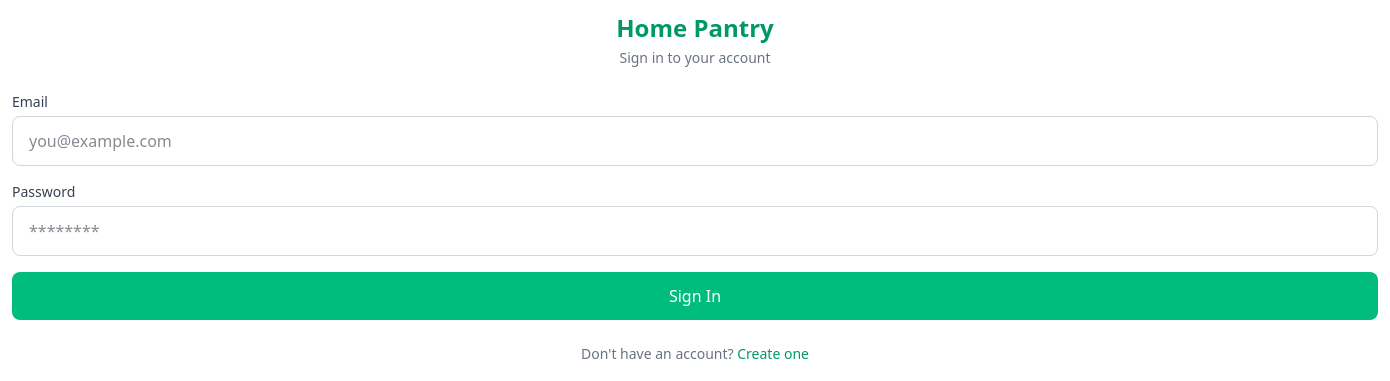
Test: LoginPage › toggles to registration mode
Click the button "Create one": (773, 354) [737,344,809,364]
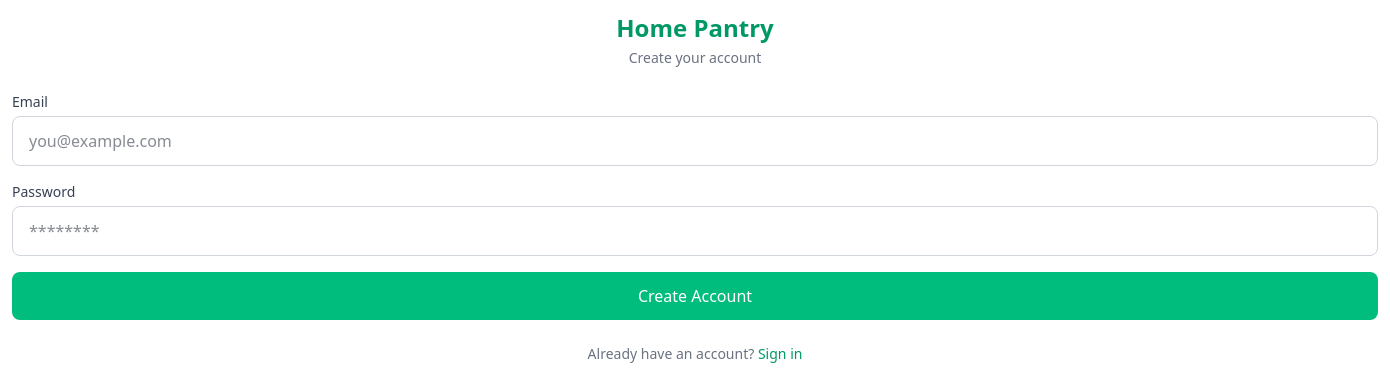
expect the text "Create your account" is shown: met, box [629,48,761,67]
expect the button "Create Account" is shown: met, box [12,272,1378,320]
expect the text "Already have an account?" is shown: met, box [588,344,754,363]
